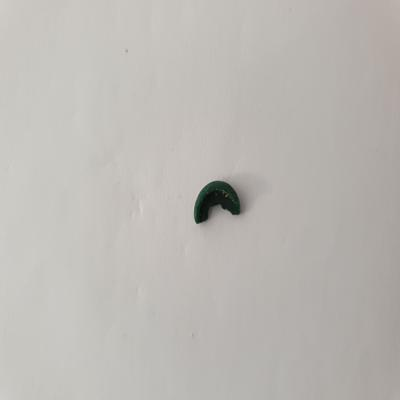plastic: (186, 176, 249, 228)
